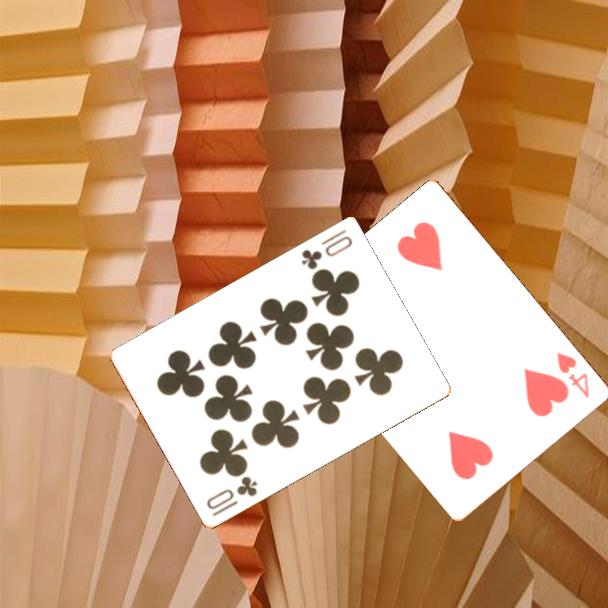c10: (297, 226, 355, 273), (203, 473, 260, 520)
h04: (554, 349, 593, 401)
